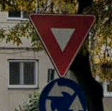cedeaza: (27, 11, 98, 82)
